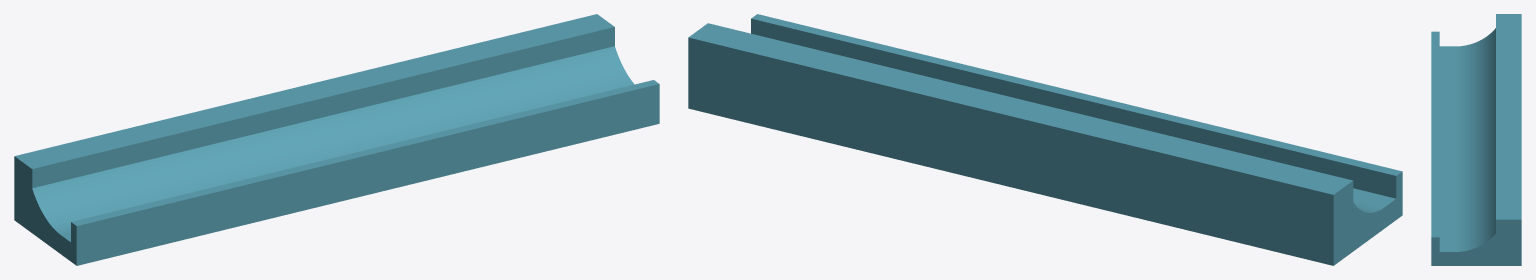
Rendered from record_holder.glb.
3 renders of one model, left to right at view 1: azimuth 30°, elevation 25°; view 2: azimuth 150°, elevation 25°; view 3: azimuth 270°, elevation 25°, orthographic. The views are drawn at different scales.
Bounding box in the file's own units: 190 × 20 × 35.2.
